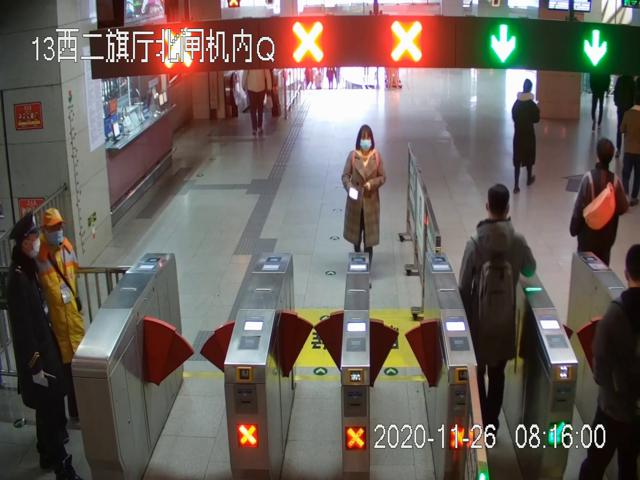person: (1, 209, 87, 480), (459, 184, 536, 442), (27, 205, 88, 446), (342, 125, 385, 288), (511, 77, 539, 193)
